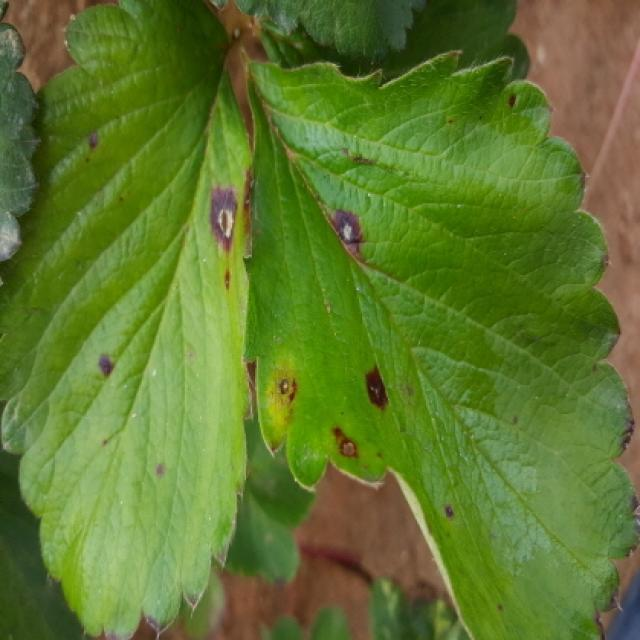Leaf Spot: (241, 49, 638, 638), (0, 0, 254, 638)
